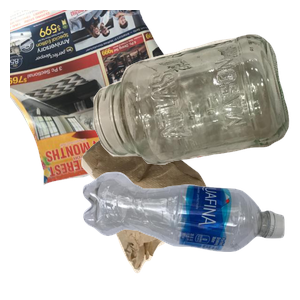glass: (91, 32, 300, 189)
paper: (10, 10, 230, 188)
plastic: (80, 169, 300, 300)
trash: (79, 123, 281, 300)
